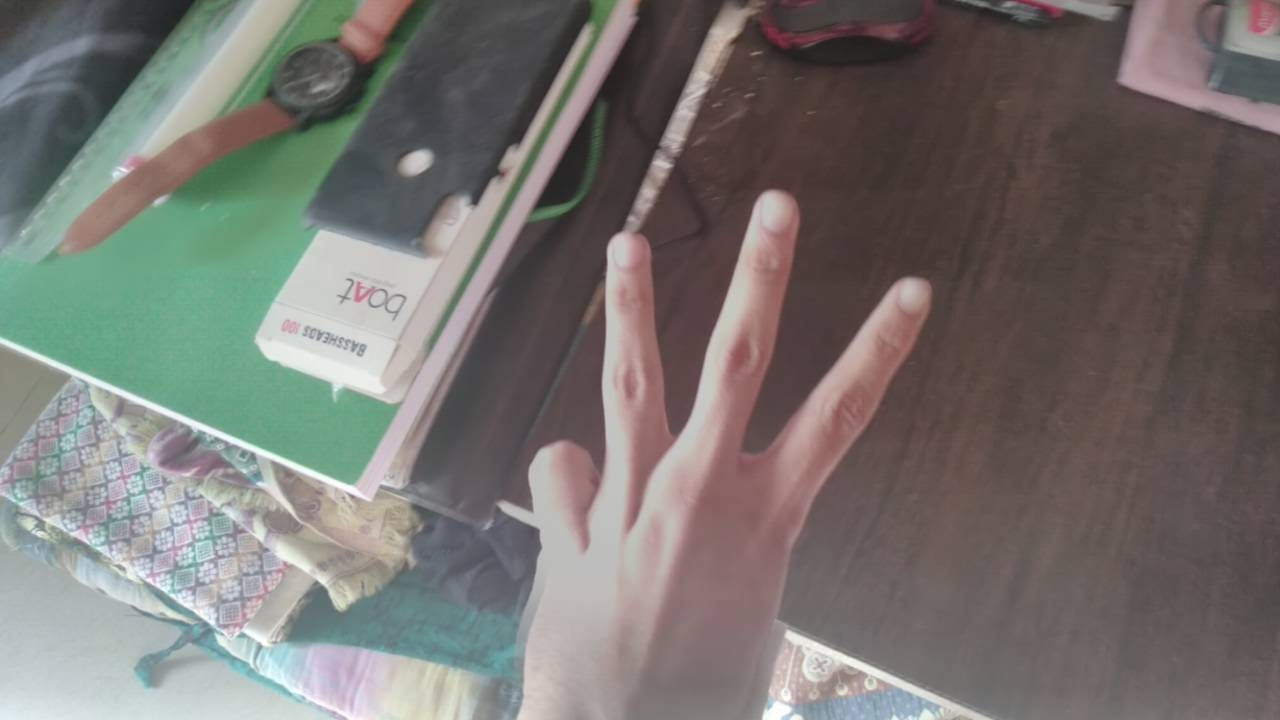fingertip: (746, 178, 808, 242), (878, 268, 946, 326), (600, 222, 656, 274)
